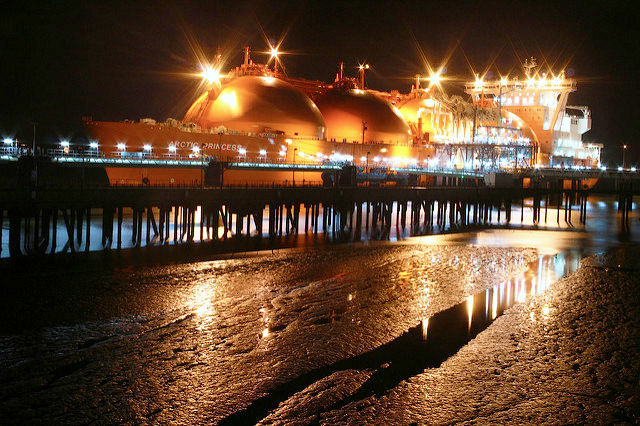LNG_ship: (79, 55, 610, 181)
